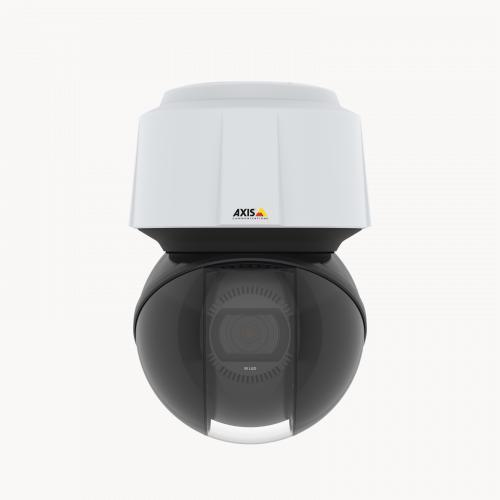CCTV: (130, 82, 370, 445)
